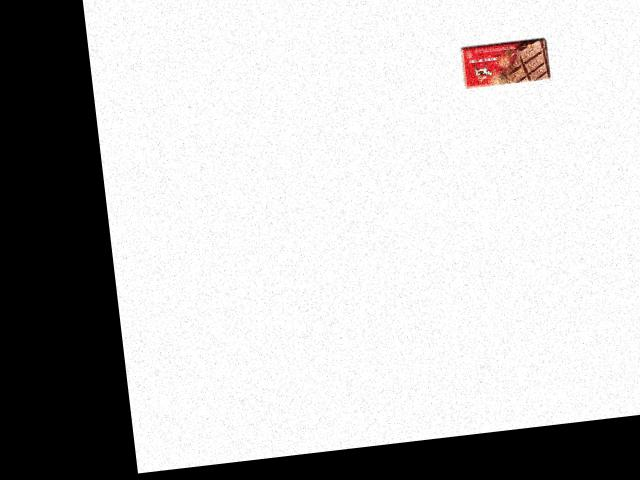chocolate: (459, 35, 553, 90)
